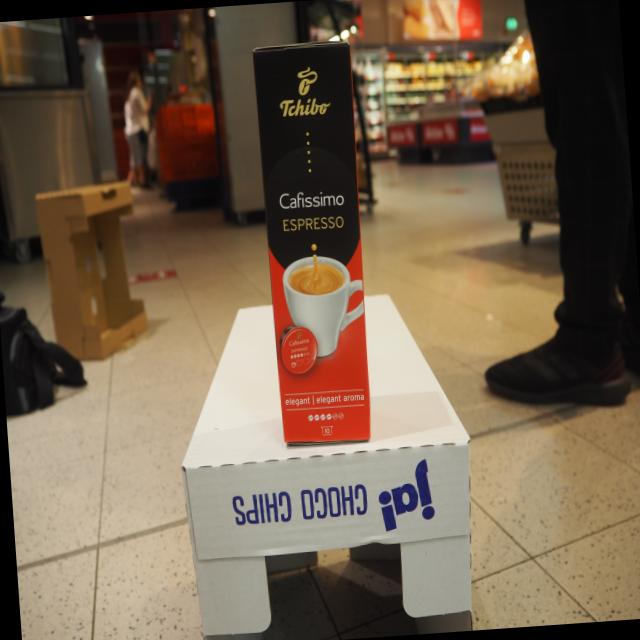Simo Es Elegant: (247, 33, 374, 449)
